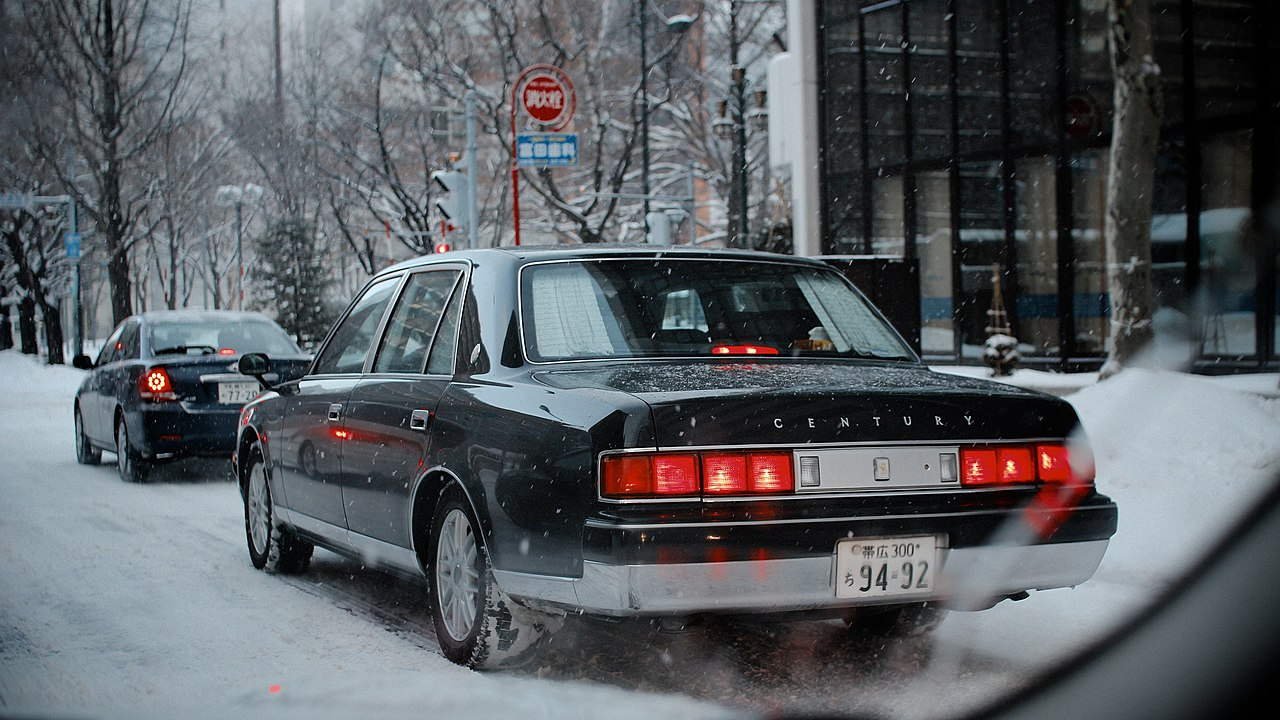plate: (833, 534, 937, 603), (216, 380, 261, 406)
